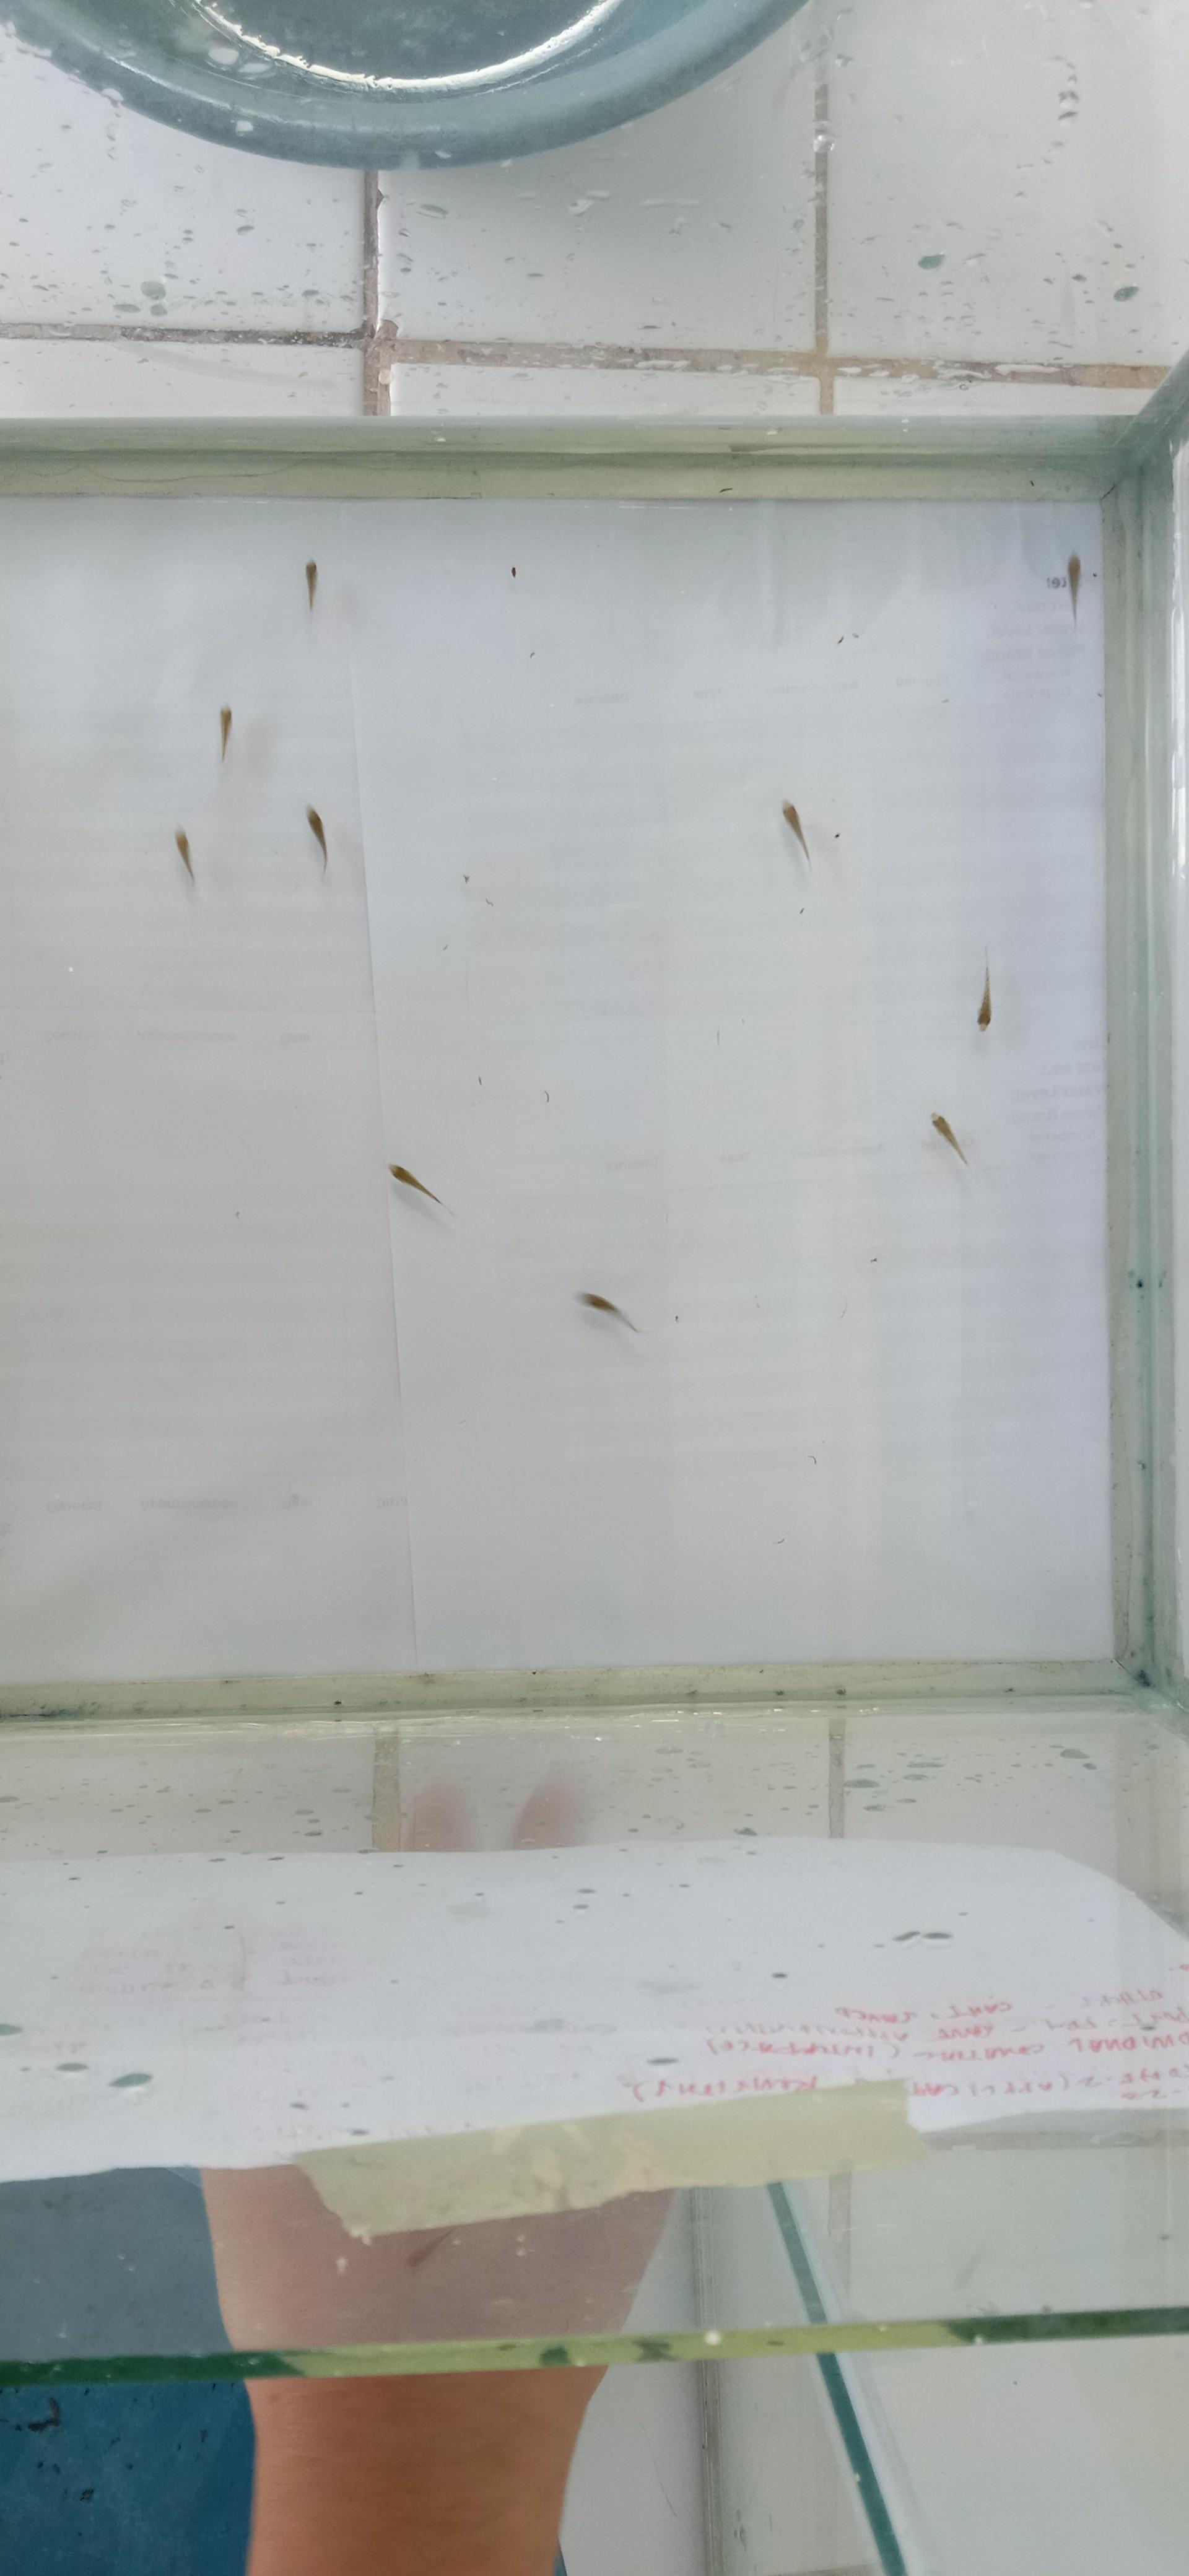fish: (576, 1290, 639, 1334), (388, 1161, 443, 1207), (930, 1111, 967, 1166), (780, 800, 811, 862), (305, 803, 328, 871), (172, 826, 195, 882), (974, 963, 992, 1028), (1064, 550, 1081, 623), (217, 705, 233, 761), (305, 560, 319, 609)
